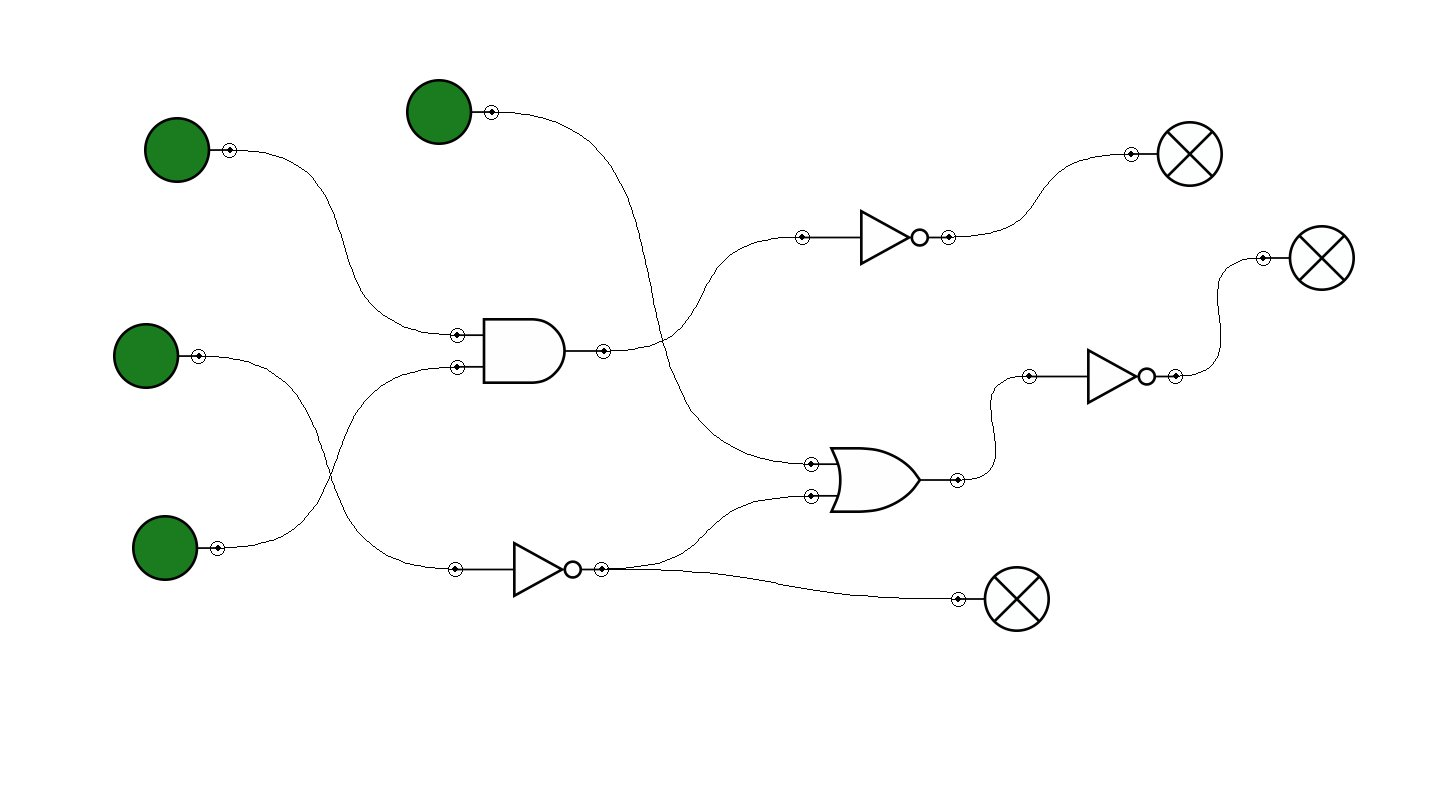and: (450, 318, 611, 384)
bulb: (951, 566, 1050, 632), (1124, 121, 1223, 187), (1256, 225, 1355, 291)
not: (795, 209, 956, 266), (448, 541, 609, 598), (1022, 348, 1183, 405)
or: (804, 447, 965, 513)
switch_True: (113, 323, 206, 389), (144, 117, 237, 183), (132, 515, 225, 581), (406, 79, 499, 145)
